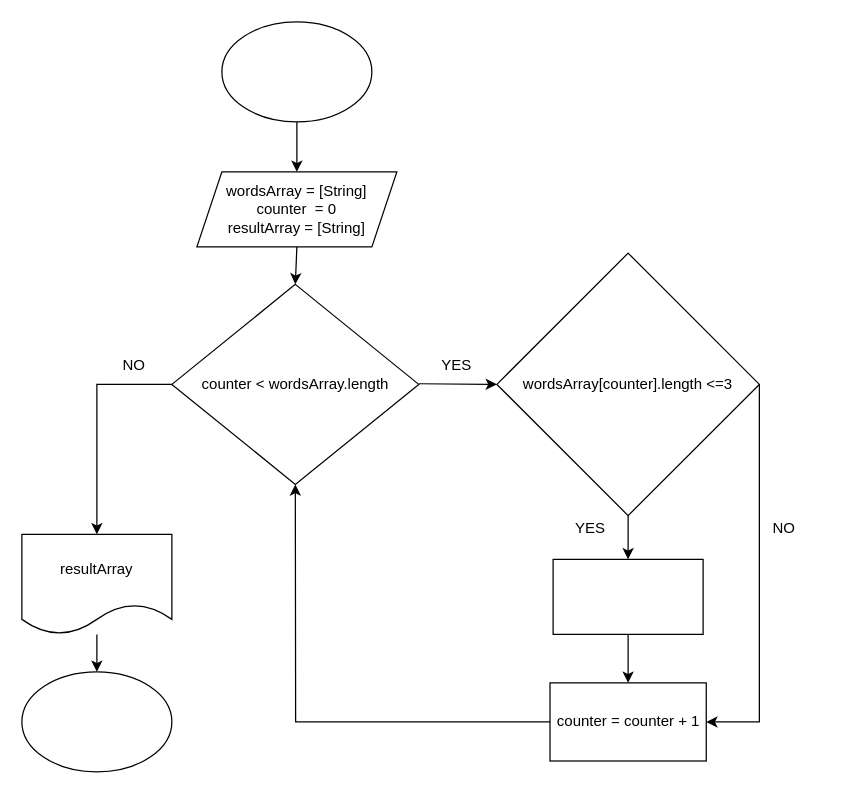
Image size: 844x794. Some labels were removed from this diagram. The shapes that lost their labels are listed below. From the top down, each one's box as (x1, y1, x2, y2) in pixels, then its label:
(221, 21, 372, 122): Start
(552, 558, 703, 634): resultArray ADD wordsArray[counter]
(21, 671, 172, 772): exit
